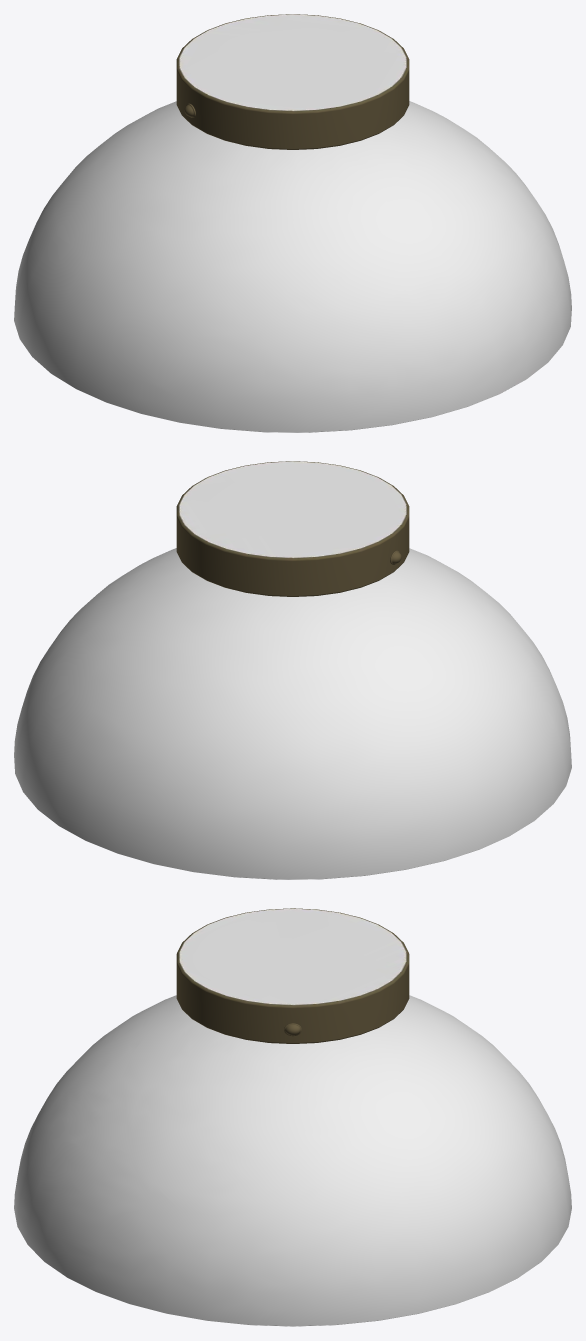
File: abo-B082DPC6Z1.glb
3 renders of one model, top to bottom at view 1: azimuth 30°, elevation 25°; view 2: azimuth 150°, elevation 25°; view 3: azimuth 270°, elevation 25°, orthographic.
Size of the model in its own units: 0.355 by 0.177 by 0.355.
1 material, 1 textured.
